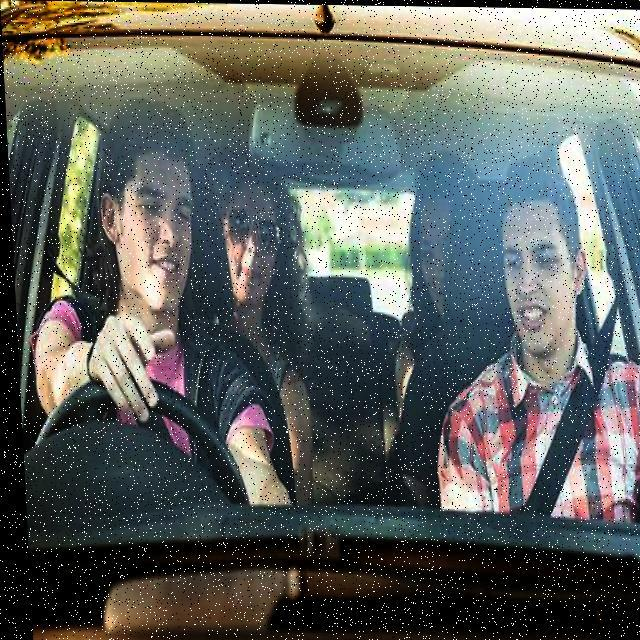seatbelt: (467, 329, 640, 525)
